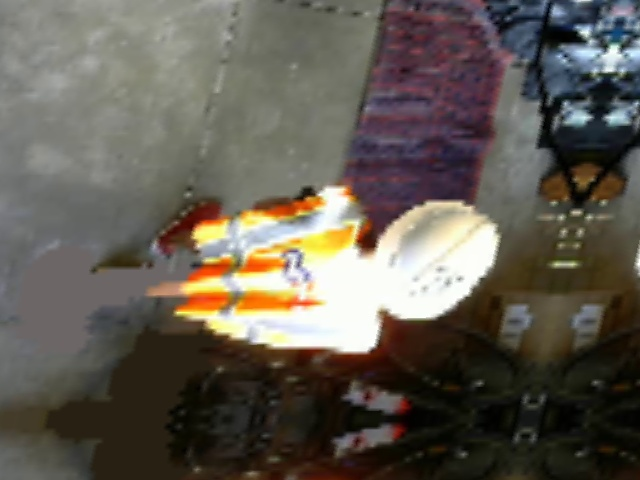eight: (404, 268, 467, 300)
